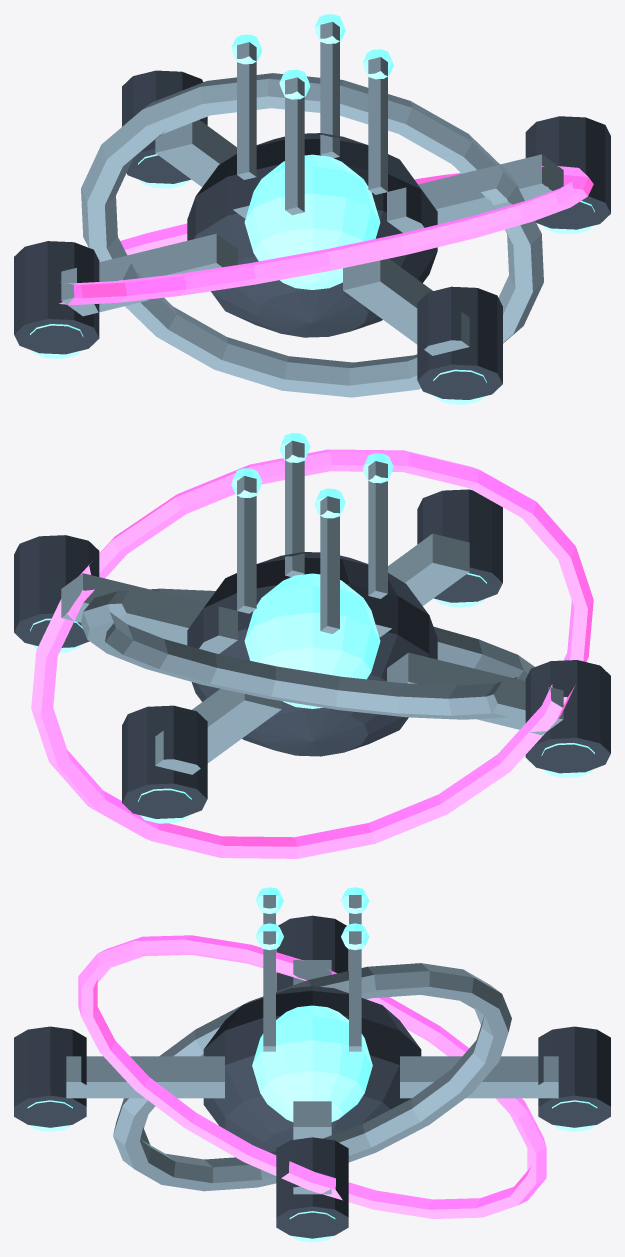
File: chrono_drone.gltf
3 views of the same model, one above another, from view 1: azimuth 30°, elevation 25°; view 2: azimuth 150°, elevation 25°; view 3: azimuth 270°, elevation 25° (orthographic). The views are drawn at different scales.
Visible parts, largest first — view 1: ChronoDrone_root; view 2: ChronoDrone_root; view 3: ChronoDrone_root.
Boxes of the visible parts, x1=… form: ChronoDrone_root: x1=14, y1=14, x2=610, y2=404; ChronoDrone_root: x1=14, y1=433, x2=610, y2=858; ChronoDrone_root: x1=14, y1=887, x2=610, y2=1242.
Bounding box in the file's own units: 3.78 × 1.83 × 3.76.
